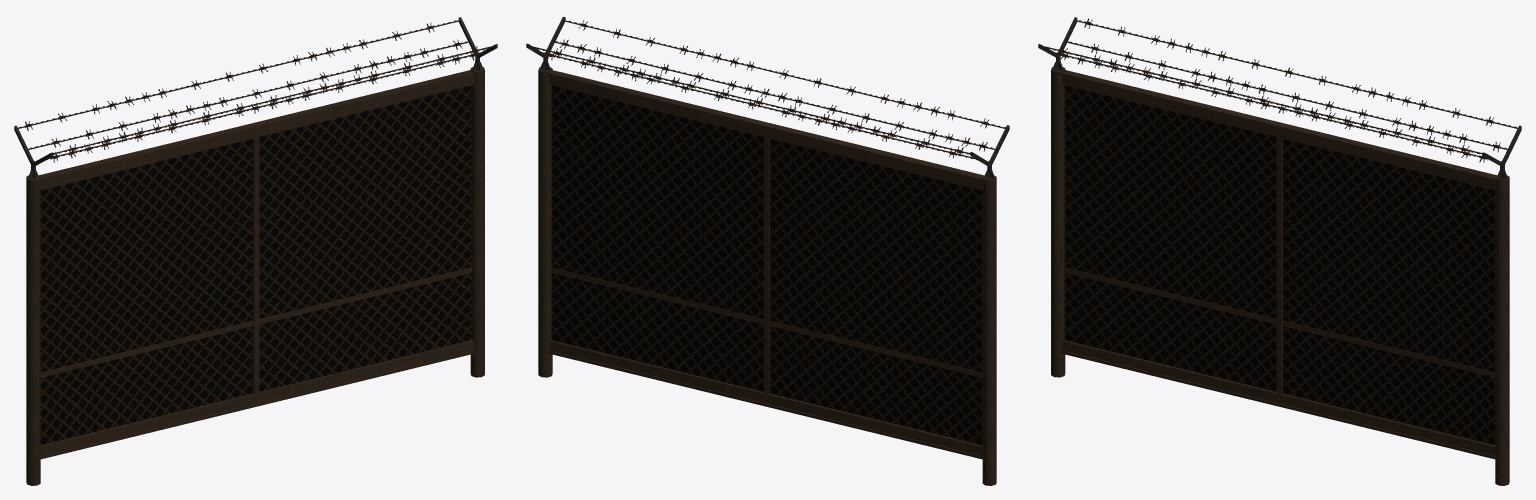
File: fence_e_2.glb
3 views of the same model, side by side, from view 1: azimuth 30°, elevation 25°; view 2: azimuth 150°, elevation 25°; view 3: azimuth 330°, elevation 25° (orthographic).
Parts seen in each view (by area): view 1: fence_e_2; view 2: fence_e_2; view 3: fence_e_2.
Part boxes in pixels (box(x1,y1,x2,y2)): fence_e_2: box(14, 17, 497, 485); fence_e_2: box(526, 16, 1009, 485); fence_e_2: box(1038, 17, 1521, 485).
Bounding box in the file's own units: 3.6 × 2.61 × 0.5551.
Materials: 4 (4 with a texture image).
